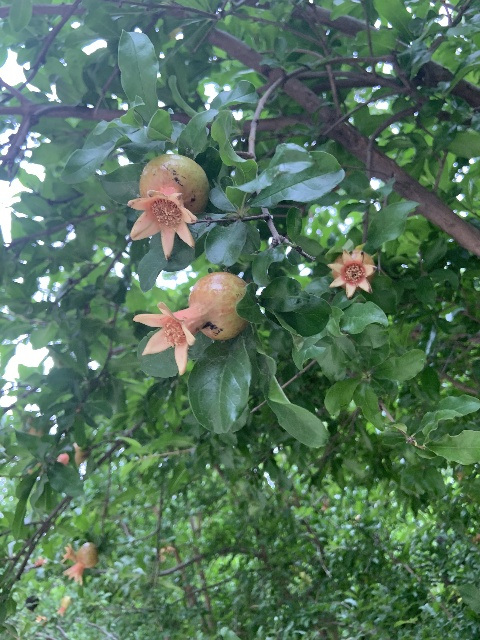early-fruit: (132, 270, 248, 374), (127, 153, 209, 259), (327, 245, 374, 300), (61, 541, 99, 584)
mid-growth: (54, 596, 71, 617)
